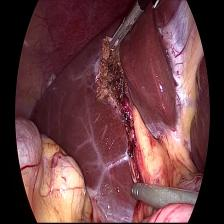Grasper: (104, 1, 144, 56)
Irrigator: (128, 179, 152, 208)
